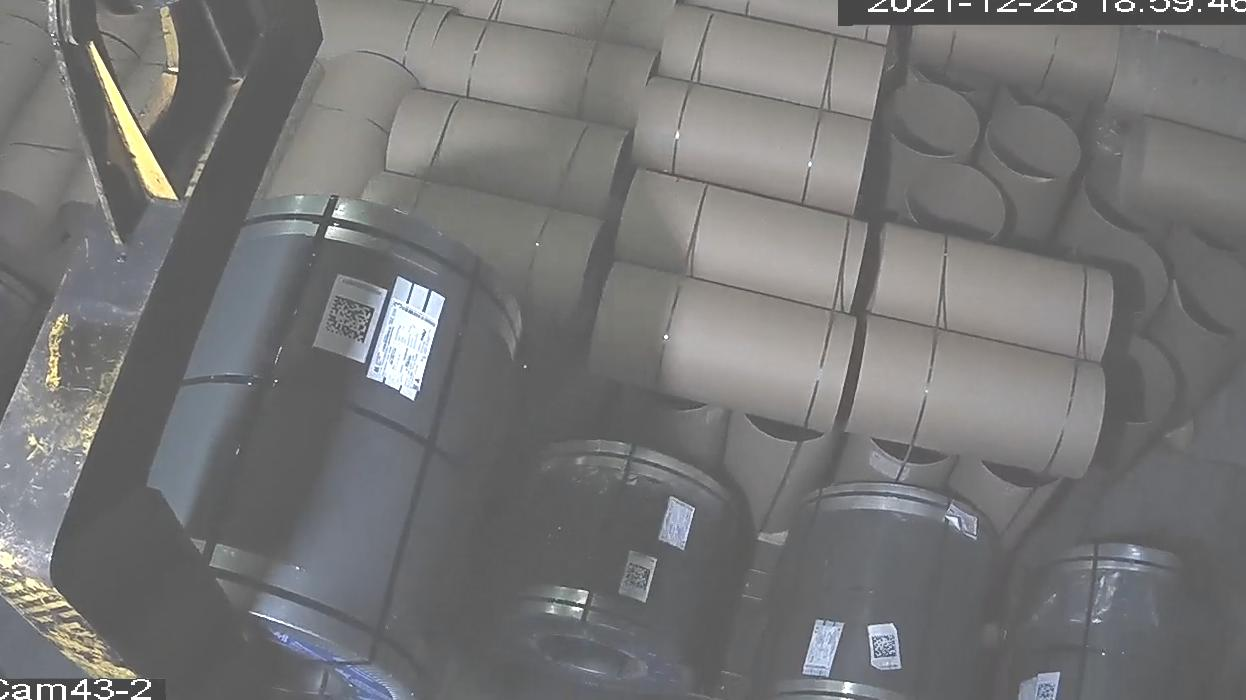data matrix: (318, 291, 380, 348), (621, 561, 655, 594), (869, 633, 902, 662), (1033, 681, 1061, 700)
